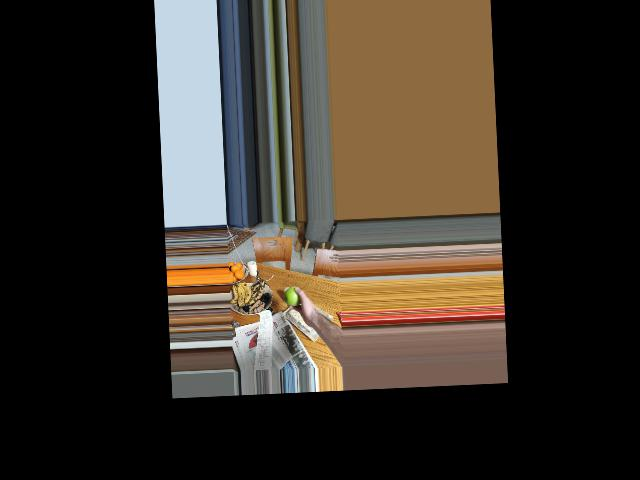apple: (283, 285, 304, 309)
